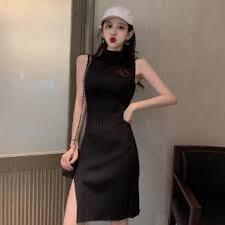dress: (71, 50, 140, 225)
